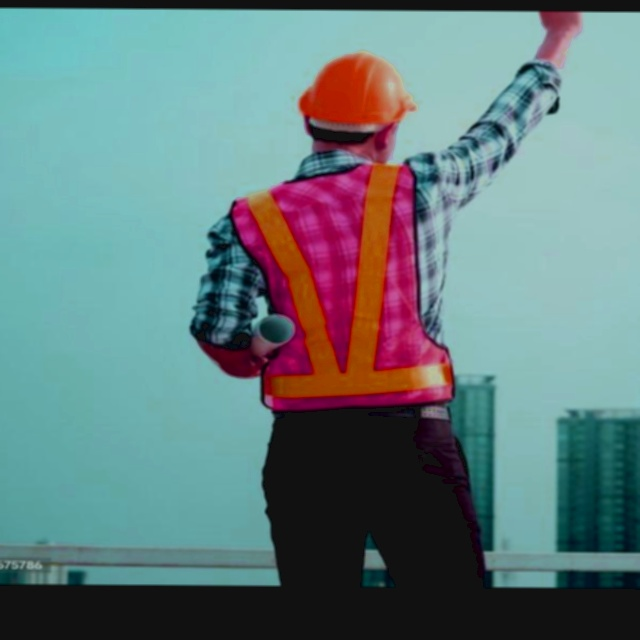Con_Casco: (300, 49, 416, 159)
Con_Chaleco: (230, 162, 459, 410)
